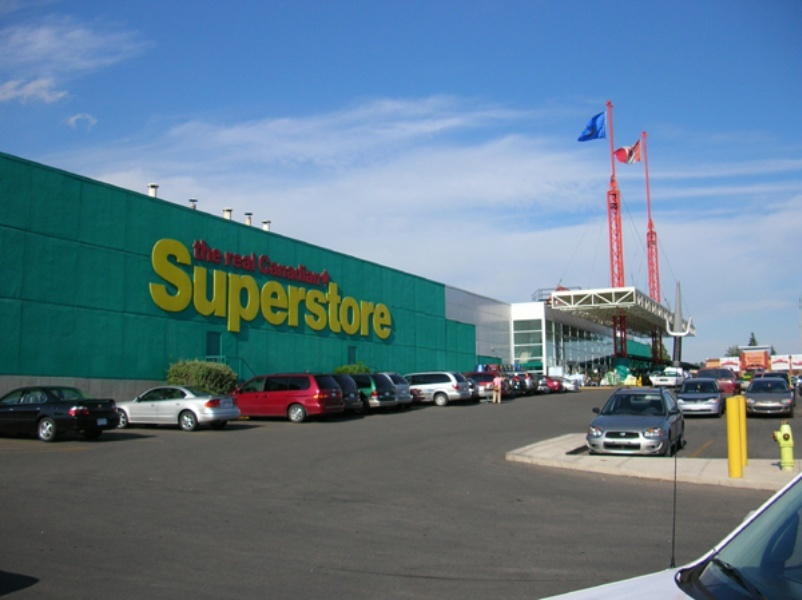text: (161, 233, 176, 341), (177, 233, 192, 341), (193, 233, 208, 341), (209, 233, 224, 341), (225, 233, 240, 341), (241, 233, 256, 341), (257, 233, 272, 341), (273, 233, 288, 341), (289, 233, 304, 341), (305, 233, 320, 341), (321, 233, 336, 341), (337, 233, 352, 341), (353, 233, 368, 341), (369, 233, 384, 341), (153, 233, 160, 341), (385, 233, 392, 341), (305, 253, 321, 286), (273, 253, 288, 286), (289, 253, 304, 286), (258, 253, 272, 286), (193, 237, 208, 264), (241, 248, 257, 272), (209, 237, 222, 264), (226, 248, 240, 272)
